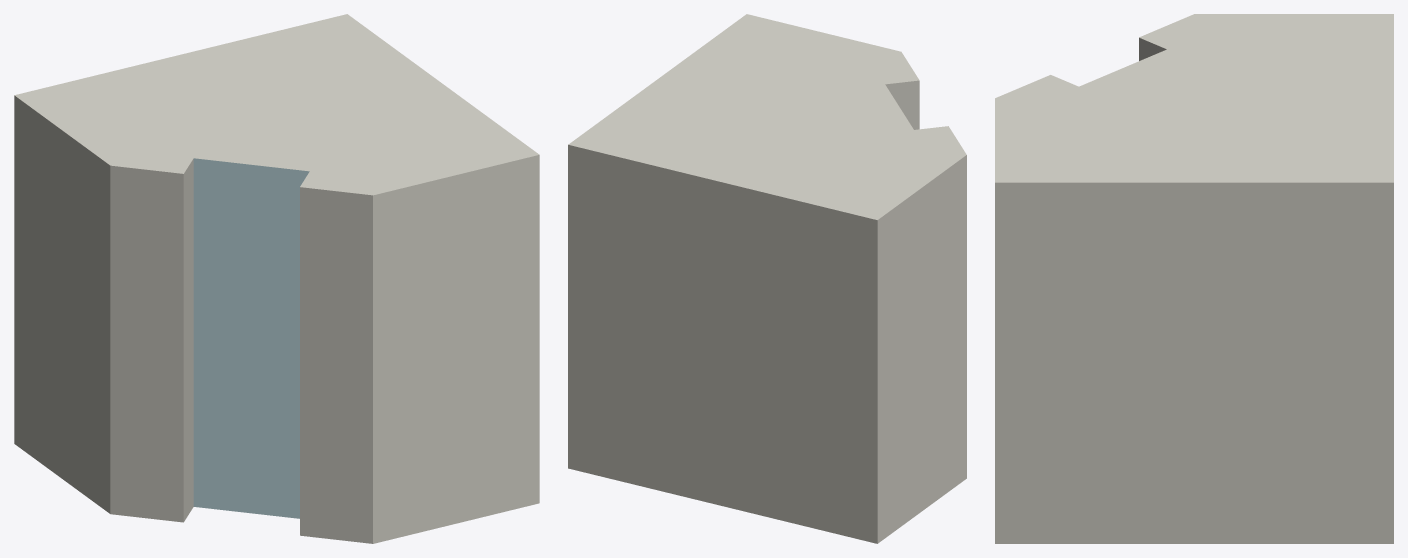
The model's file is Building Story 24.fbx.
The picture shows the model from 3 angles, left to right: view 1: azimuth 30°, elevation 25°; view 2: azimuth 150°, elevation 25°; view 3: azimuth 270°, elevation 25°; orthographic projection. The views are drawn at different scales.
Visible parts, largest first — view 1: Building Story 24; view 2: Building Story 24; view 3: Building Story 24.
Part boxes in pixels (bbox=[...]): Building Story 24: bbox=[14, 14, 539, 543]; Building Story 24: bbox=[568, 14, 966, 543]; Building Story 24: bbox=[995, 14, 1393, 543].
Size of the model in its own units: 1 by 1 by 1.
